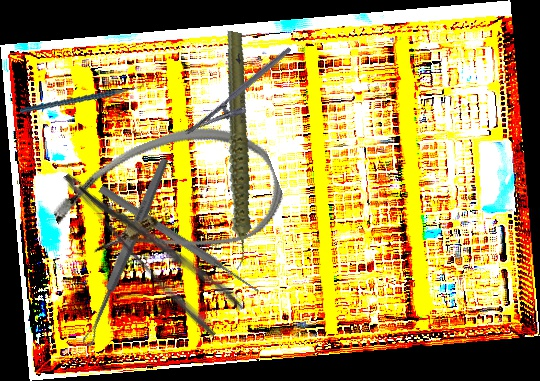Cannula: (41, 103, 294, 300)
Chopper: (20, 61, 147, 130)
Dressing Forceps: (59, 145, 247, 341)
Handpiece: (177, 29, 293, 272)
Needle Holder: (183, 46, 304, 150)
Pusher: (96, 183, 263, 297)
Surgical Spoon: (80, 156, 171, 348)
